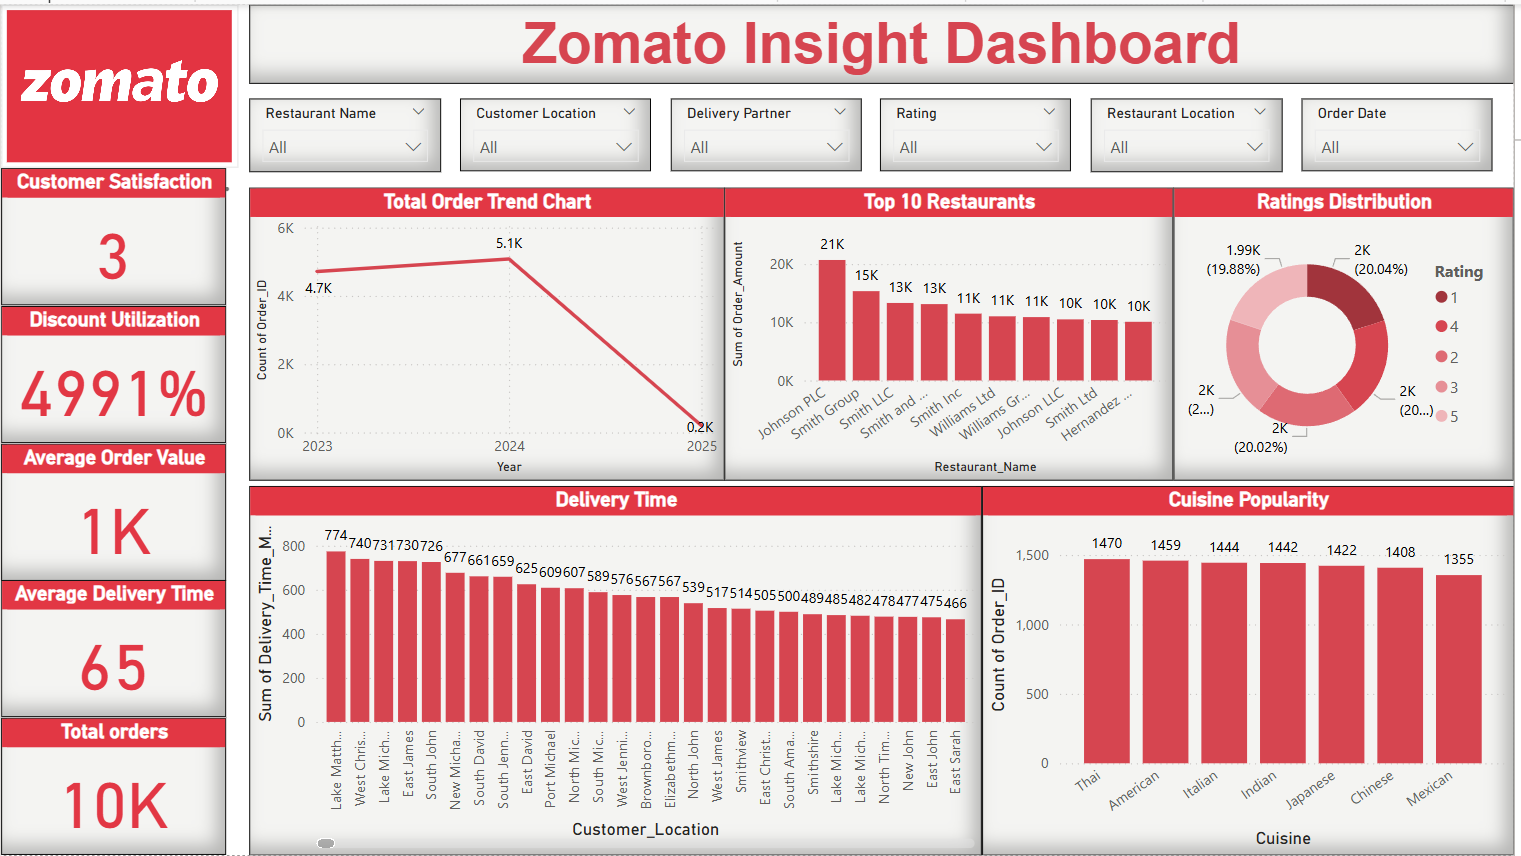

The page's visual inventory and layout, read from the dashboard file:
{"tool":"powerbi","page":{"name":"Zomato Insight Dashboard","canvas":[1280,720],"ordinal":1},"visuals":[{"type":"textbox","box":[209.9,0,1070.3,67.2],"z":0},{"type":"slicer","fields":{"Values":["Sheet1.Restaurant_Name"]},"box":[209.9,79.6,162,62],"z":0,"group":"g1"},{"type":"lineChart","title":"Total Order Trend Chart","fields":{"Category":["Sheet1.Order_Date.Variation.Date Hierarchy.Year","Sheet1.Order_Date.Variation.Date Hierarchy.Month"],"Y":["CountNonNull(Sheet1.Order_ID)"]},"box":[209.5,155.6,402.1,248.4],"z":0,"group":"g2"},{"type":"clusteredColumnChart","title":"Delivery Time","fields":{"Category":["Sheet1.Customer_Location"],"Y":["Sum(Sheet1.Delivery_Time_Minutes)"]},"box":[209.9,407.5,620.2,312.9],"z":0,"group":"g5"},{"type":"card","title":"Total orders","fields":{"Values":["Count(Sheet1.Order_ID)"]},"box":[0,604.1,190.7,116.4],"z":0,"group":"g4"},{"type":"image","box":[0,0,200.3,138.6],"z":1000},{"type":"slicer","fields":{"Values":["Sheet1.Customer_Location"]},"box":[388.1,79.6,161.9,61.7],"z":1000,"group":"g1"},{"type":"columnChart","title":"Top 10 Restaurants","fields":{"Category":["Sheet1.Restaurant_Name"],"Y":["Sum(Sheet1.Order_Amount)"]},"box":[611.6,155.6,380.1,248.4],"z":1000,"group":"g2"},{"type":"columnChart","title":"Cuisine Popularity","fields":{"Category":["Sheet1.Cuisine"],"Y":["CountNonNull(Sheet1.Order_ID)"]},"box":[830.1,407.5,450.1,312.9],"z":1000,"group":"g5"},{"type":"card","title":"Average Delivery Time","fields":{"Values":["Avg(Sheet1.Delivery_Time_Minutes)"]},"box":[0,487.7,190.7,116.4],"z":1000,"group":"g4"},{"type":"group","id":"g1","title":"Group 1","box":[209.9,79.6,1052.5,61.7],"z":2000},{"type":"slicer","fields":{"Values":["Sheet1.Delivery_Partner"]},"box":[566.1,79.6,161.9,61.7],"z":2000,"group":"g1"},{"type":"donutChart","title":"Ratings Distribution","fields":{"Y":["CountNonNull(Sheet1.Order_ID)"],"Category":["Sheet1.Rating"]},"box":[991.4,155.6,288.2,248.4],"z":2000,"group":"g2"},{"type":"card","title":"Average Order Value","fields":{"Values":["Avg(Sheet1.Order_Amount)"]},"box":[0,371.3,190.7,116.4],"z":2000,"group":"g4"},{"type":"slicer","fields":{"Values":["Sheet1.Rating"]},"box":[744.2,79.6,161.9,61.7],"z":3000,"group":"g1"},{"type":"card","title":"Customer Satisfaction","fields":{"Values":["Avg(Sheet1.Rating)"]},"box":[0,138.6,190.7,116.4],"z":3000,"group":"g4"},{"type":"group","id":"g2","title":"Group 2","box":[209.5,155.6,1070.1,248.4],"z":3000},{"type":"slicer","fields":{"Values":["Sheet1.Order_Date.Variation.Date Hierarchy.Year","Sheet1.Order_Date.Variation.Date Hierarchy.Month","Sheet1.Order_Date.Variation.Date Hierarchy.Day"]},"box":[1100.5,79.6,161.9,61.7],"z":4000,"group":"g1"},{"type":"card","title":"Discount Utilization","fields":{"Values":["Sheet1.Discount Utilization (%)"]},"box":[0,255,190.7,116.4],"z":4000,"group":"g4"},{"type":"group","id":"g3","title":"Group 3","box":[209.9,407.5,1070.3,312.9],"z":4000},{"type":"slicer","fields":{"Values":["Sheet1.Restaurant_Location"]},"box":[922.3,79.6,162,62],"z":5000,"group":"g1"},{"type":"group","id":"g4","title":"Group 4","box":[0,138.6,190.7,581.8],"z":5000},{"type":"group","id":"g5","title":"Group 5","box":[209.9,407.5,1070.3,312.9],"z":5001,"group":"g3"}]}

Visuals, with their boxes in screenshot pixels (x1, y1, x2, y2), scaled from the page's 1280x720 canvas onto the 1521x856 screenshot:
textbox: detection(249, 0, 1520, 80)
slicer - Sheet1.Restaurant_Name: detection(249, 95, 442, 168)
"Total Order Trend Chart" lineChart: detection(249, 185, 727, 480)
"Delivery Time" clusteredColumnChart: detection(249, 484, 986, 855)
"Total orders" card: detection(0, 718, 227, 855)
image: detection(0, 0, 238, 165)
slicer - Sheet1.Customer_Location: detection(461, 95, 654, 168)
"Top 10 Restaurants" columnChart: detection(727, 185, 1178, 480)
"Cuisine Popularity" columnChart: detection(986, 484, 1520, 855)
"Average Delivery Time" card: detection(0, 580, 227, 718)
"Group 1" group: detection(249, 95, 1500, 168)
slicer - Sheet1.Delivery_Partner: detection(673, 95, 865, 168)
"Ratings Distribution" donutChart: detection(1178, 185, 1520, 480)
"Average Order Value" card: detection(0, 441, 227, 580)
slicer - Sheet1.Rating: detection(884, 95, 1077, 168)
"Customer Satisfaction" card: detection(0, 165, 227, 303)
"Group 2" group: detection(249, 185, 1520, 480)
slicer - Sheet1.Order_Date.Variation.Date Hierarchy.Year x Sheet1.Order_Date.Variation.Date Hierarchy.Month: detection(1308, 95, 1500, 168)
"Discount Utilization" card: detection(0, 303, 227, 442)
"Group 3" group: detection(249, 484, 1520, 855)
slicer - Sheet1.Restaurant_Location: detection(1096, 95, 1288, 168)
"Group 4" group: detection(0, 165, 227, 855)
"Group 5" group: detection(249, 484, 1520, 855)
